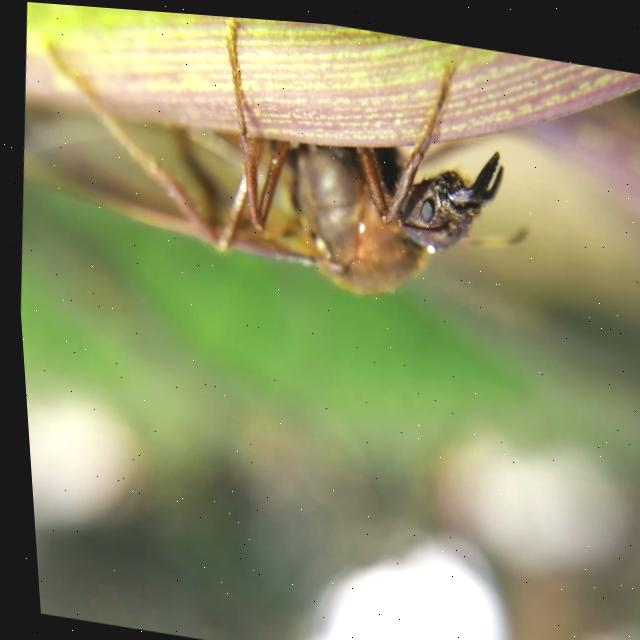Alive-Female-Alate: (6, 0, 546, 316)
